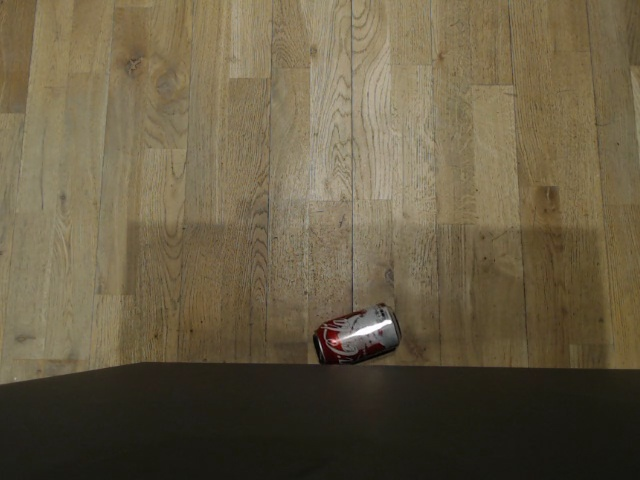cola: (311, 299, 402, 366)
